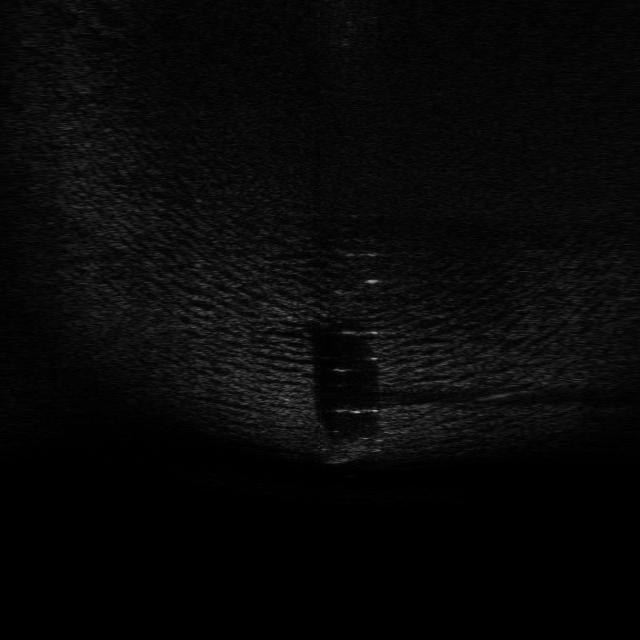cube: (314, 434, 386, 466)
